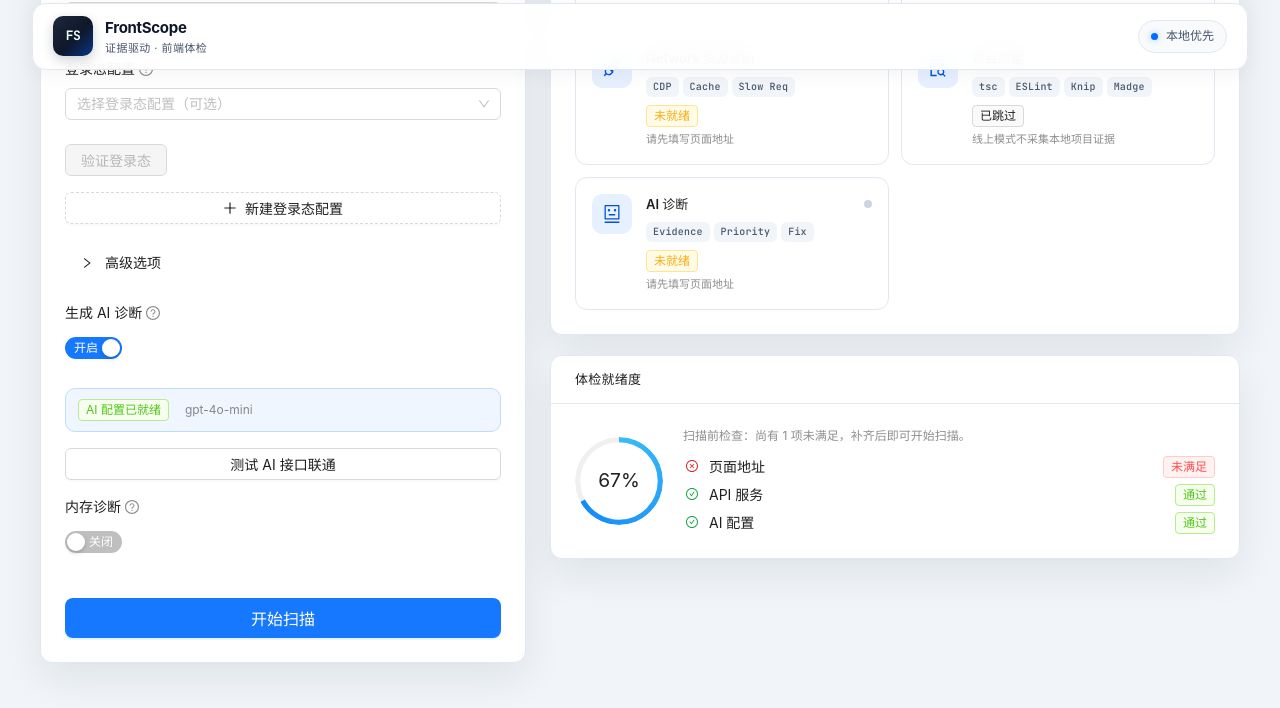
Test: App › runs AI connectivity test and shows success result
(page scrolled)
Check: the text "AI 配置已就绪" is shown, box [78, 399, 169, 421]
Click the button "测试 AI 接口联通" at (283, 464), box [65, 448, 501, 480]
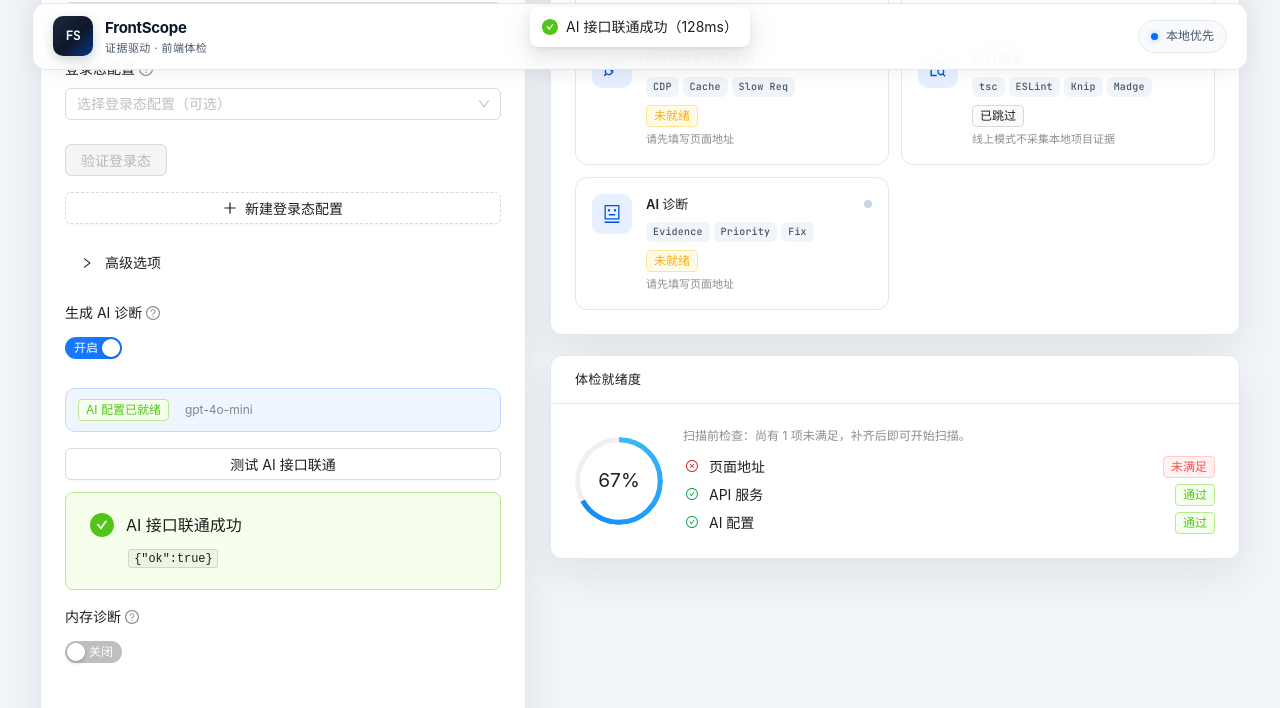
Check: the text "AI 接口联通成功" is shown, box [126, 515, 242, 535]
Check: the text "{\"ok\":true}" is shown, box [128, 549, 218, 568]
